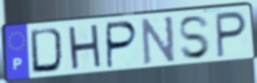D: (29, 27, 68, 75)
H: (66, 23, 105, 74)
N: (141, 14, 176, 67)
P: (214, 10, 249, 60), (105, 20, 139, 71)
S: (177, 14, 212, 61)
